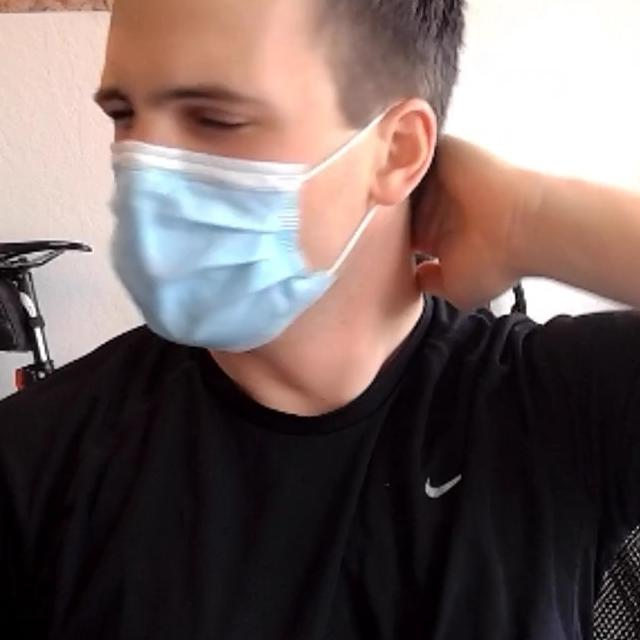Mask: (110, 108, 400, 354)
NO-Safety Vest: (0, 298, 571, 640)
Person: (0, 0, 640, 640)
